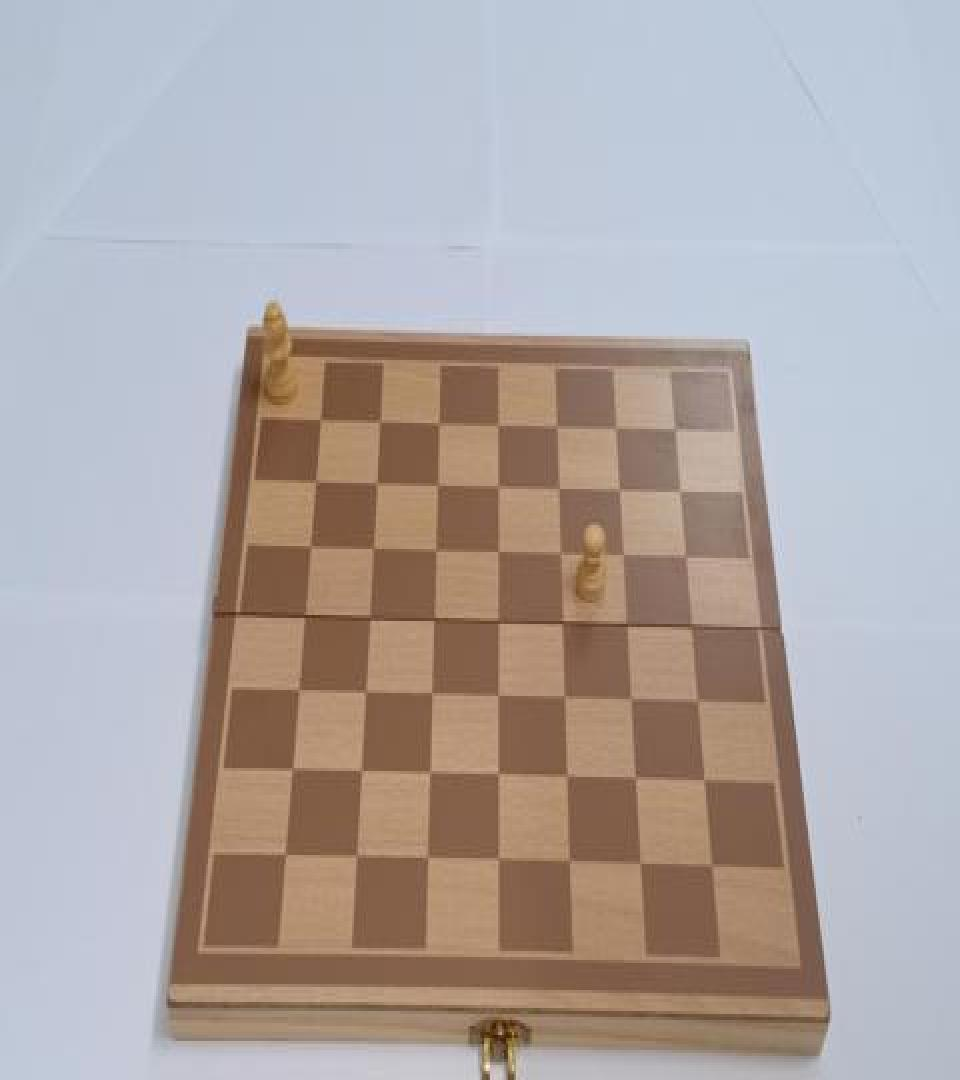xcorner: (315, 406, 333, 434), (548, 412, 566, 440), (550, 472, 568, 500), (558, 760, 576, 788), (310, 468, 328, 495), (304, 532, 322, 559), (291, 675, 309, 702), (284, 755, 302, 782), (277, 840, 295, 867), (373, 408, 391, 435), (370, 470, 388, 497), (366, 534, 384, 561), (362, 603, 380, 630), (357, 676, 375, 703), (353, 756, 371, 783), (430, 471, 448, 498), (426, 604, 444, 631), (423, 678, 441, 705), (418, 843, 436, 870), (490, 411, 508, 438), (490, 471, 508, 498), (490, 537, 508, 564), (490, 606, 508, 633), (489, 759, 507, 786), (489, 844, 507, 871), (552, 538, 570, 565), (556, 681, 574, 708), (560, 846, 578, 873), (606, 414, 624, 441), (610, 474, 628, 501), (613, 540, 631, 567), (617, 609, 635, 636), (622, 683, 640, 710), (626, 762, 644, 789), (664, 414, 682, 441), (681, 610, 699, 637), (688, 684, 706, 711), (702, 849, 720, 876), (298, 602, 316, 628), (348, 842, 366, 868), (432, 410, 450, 436), (428, 536, 446, 562), (421, 758, 439, 784), (490, 680, 508, 706), (553, 608, 571, 634), (631, 848, 649, 874), (669, 476, 687, 502), (675, 542, 693, 568), (695, 764, 713, 790)
